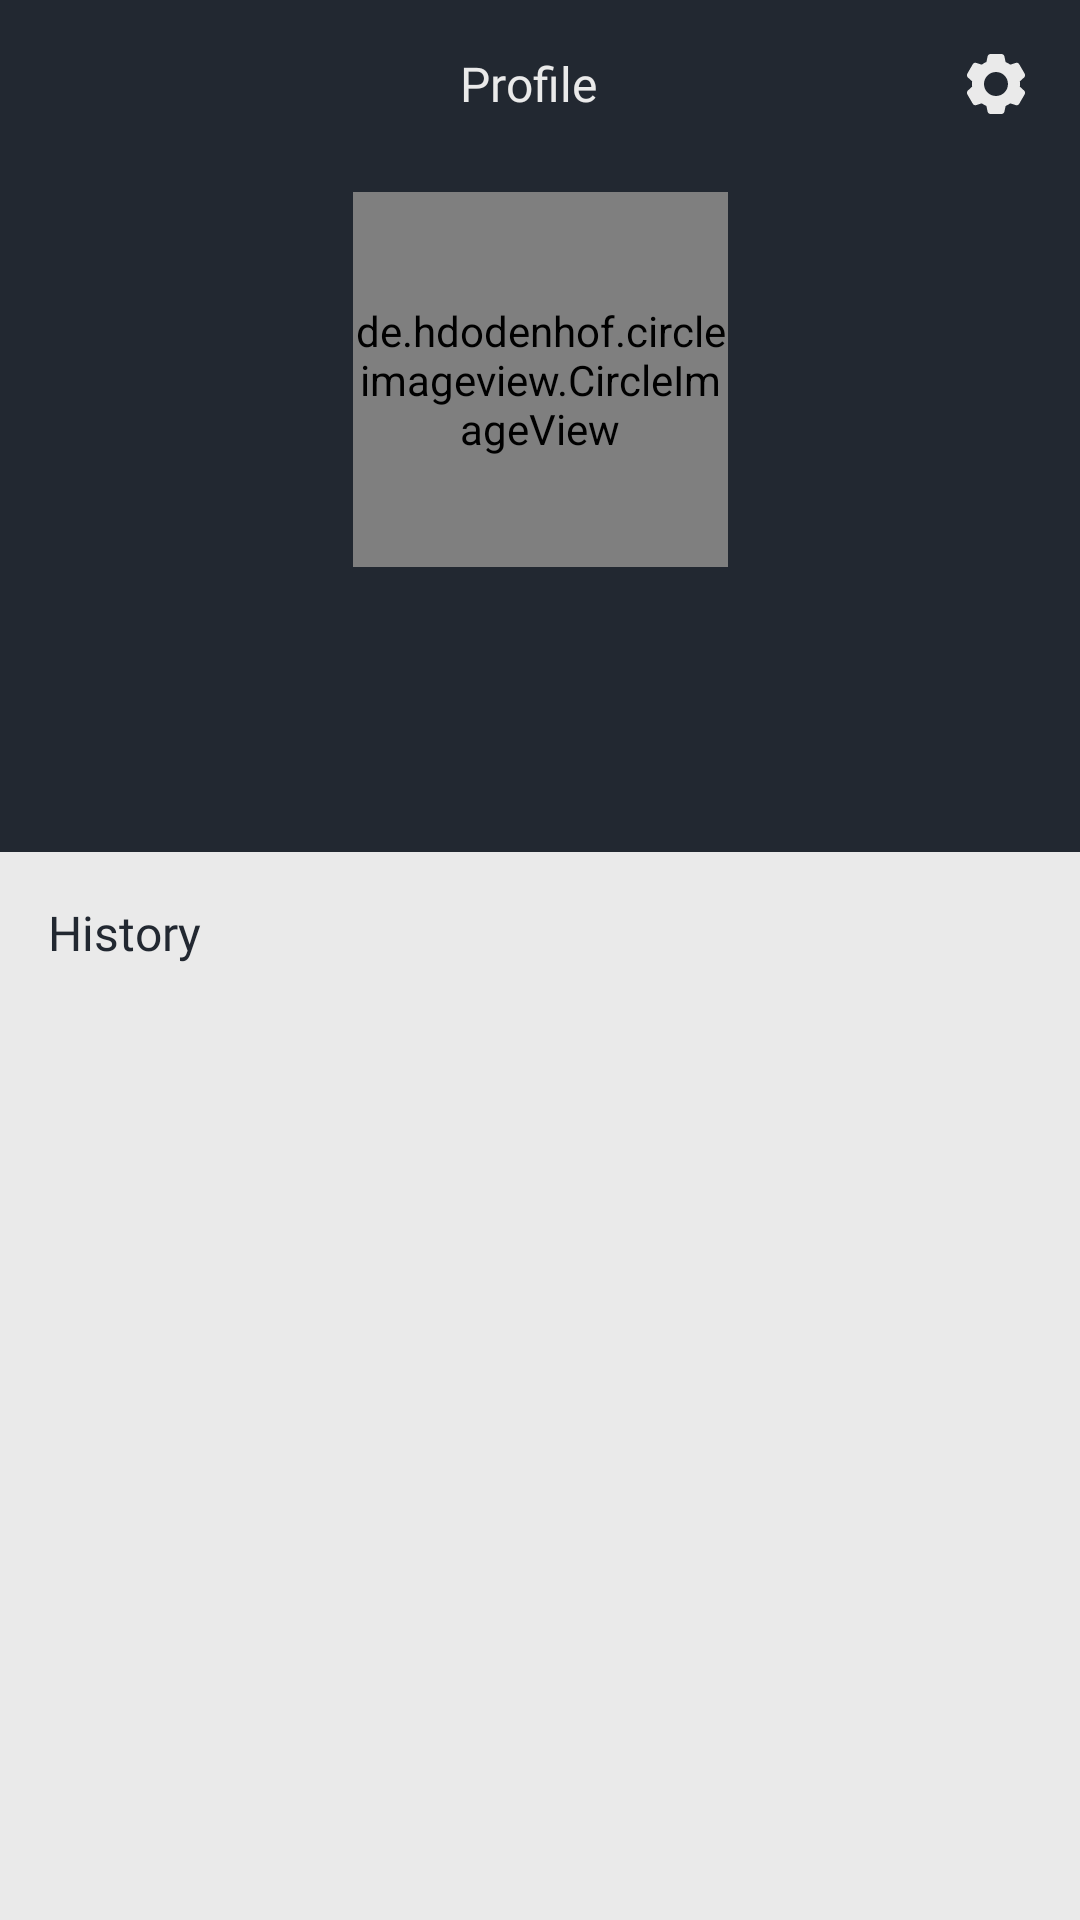

Icons on this 1080w x 1920h Android screen, each with the point to tap as (x=x, y=y):
Settings: (x=996, y=84)
